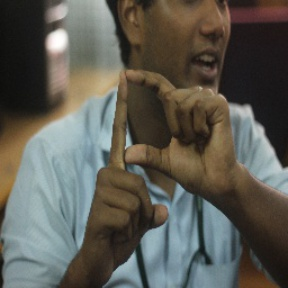D: (94, 63, 210, 196)
